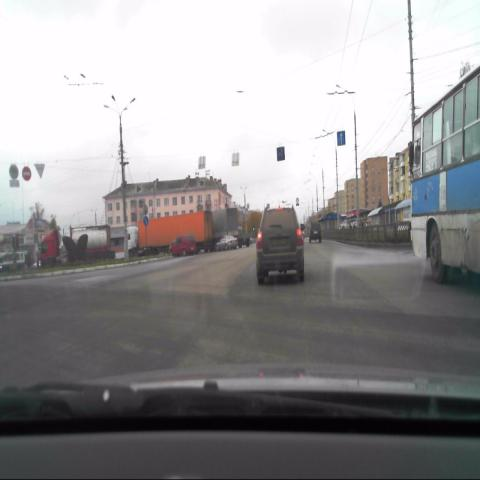4_2_1: (142, 215, 149, 226)
5_15_2: (276, 146, 284, 162), (337, 131, 345, 145)
